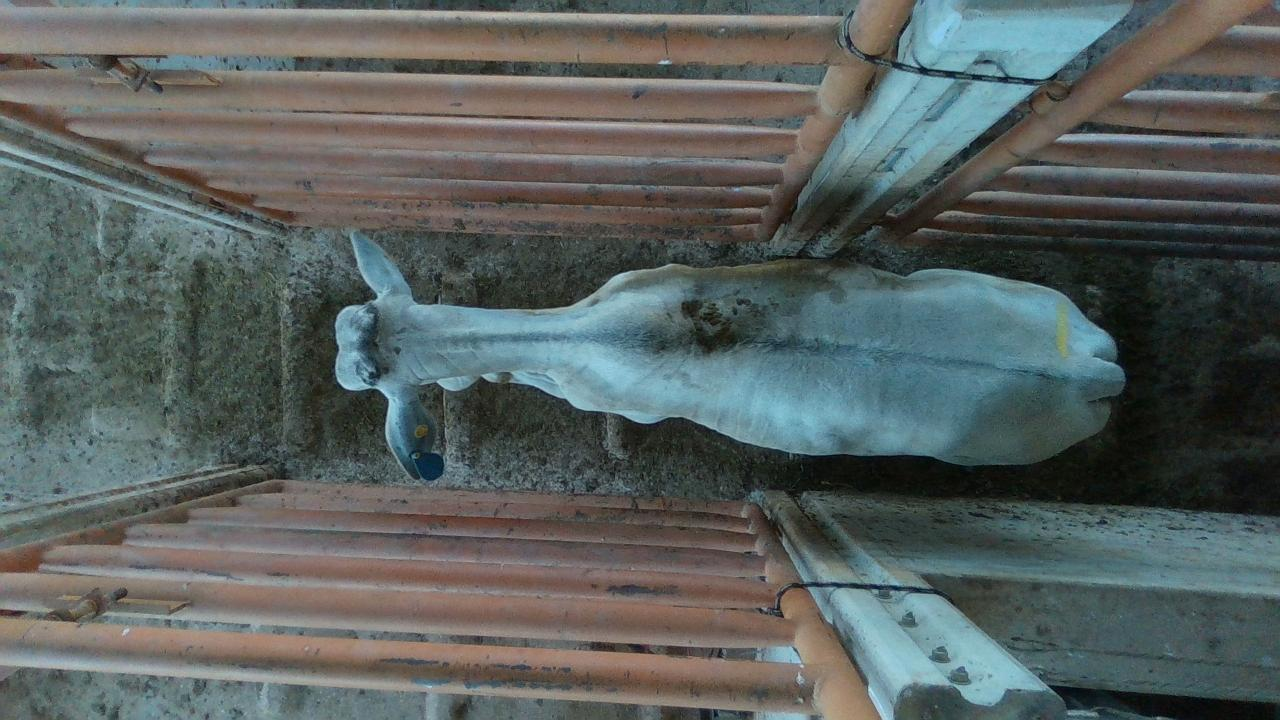cattle: (332, 228, 1126, 480)
